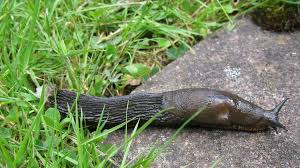slug: (43, 84, 288, 139)
